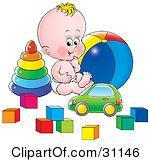person: (36, 1, 95, 95)
